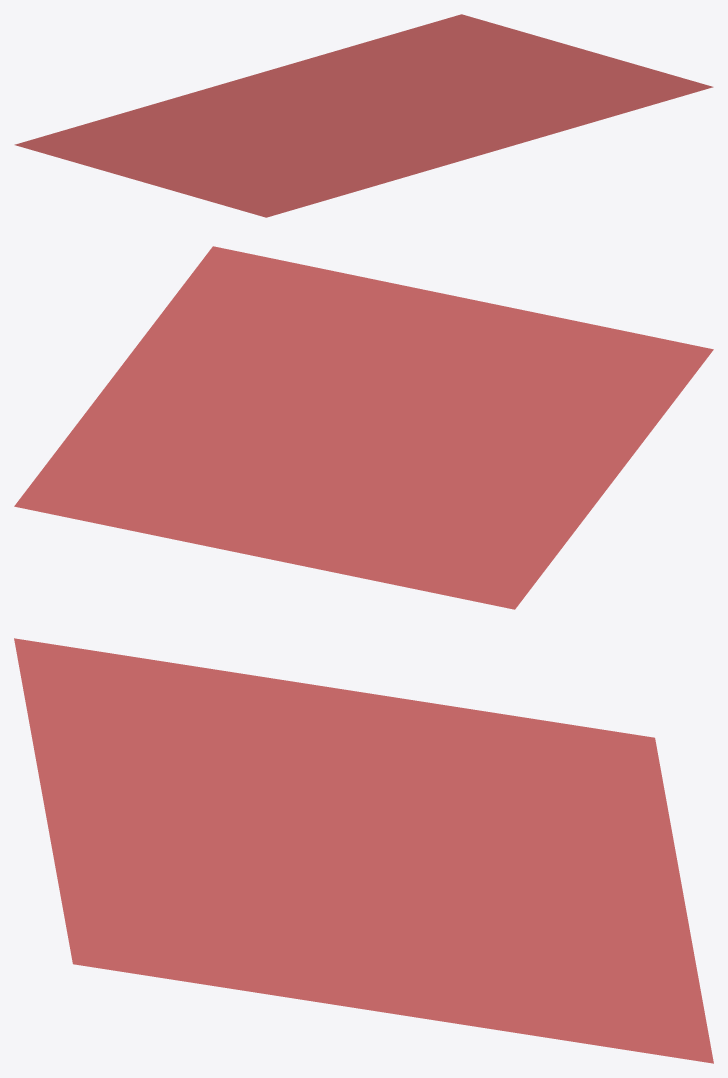
The model's file is Grass Blade Bark 4  VINES.fbx.
3 views of the same model, one above another, from view 1: azimuth 30°, elevation 25°; view 2: azimuth 150°, elevation 25°; view 3: azimuth 270°, elevation 25° (orthographic). The views are drawn at different scales.
Parts seen in each view (by area): view 1: Quad (2); view 2: Quad (2); view 3: Quad (2).
Part boxes in pixels (x1=…): Quad (2): x1=14, y1=14, x2=713, y2=217; Quad (2): x1=14, y1=246, x2=713, y2=609; Quad (2): x1=14, y1=638, x2=713, y2=1063.
Bounding box in the file's own units: 7.92 × 1.29 × 6.72.
